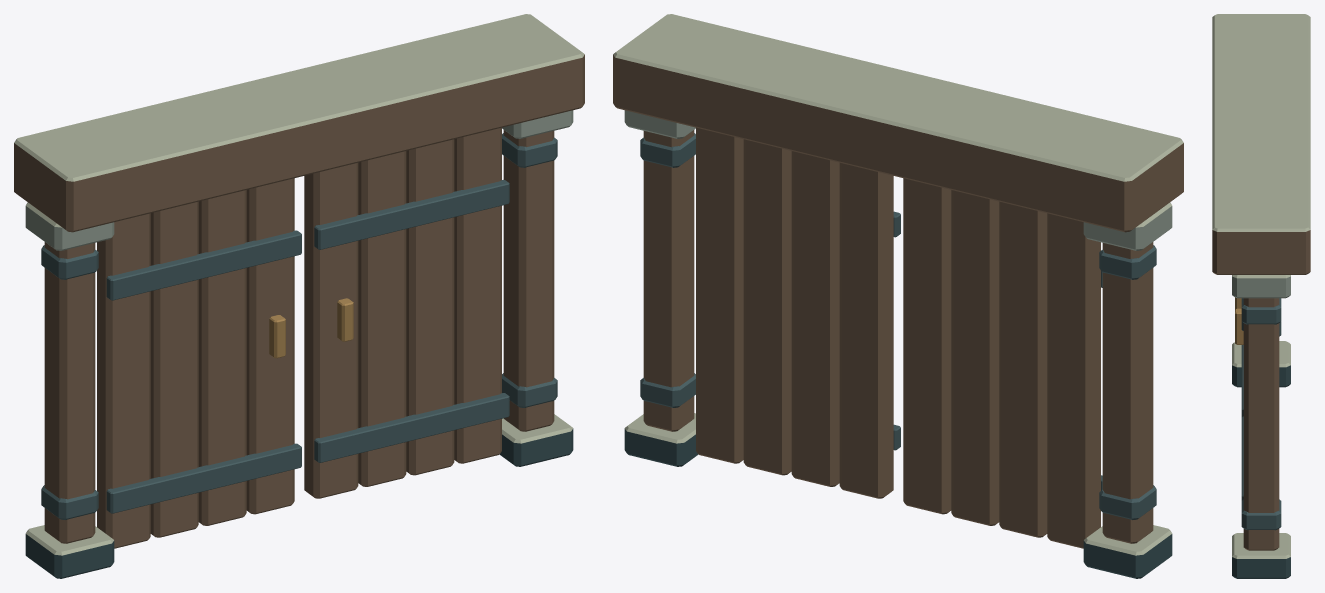
File: doorway.glb
The picture shows the model from 3 angles, left to right: view 1: azimuth 30°, elevation 25°; view 2: azimuth 150°, elevation 25°; view 3: azimuth 270°, elevation 25°; orthographic projection. The views are drawn at different scales.
Parts seen in each view (by area): view 1: doorway__body, doorway__leaf-right, doorway__leaf-left; view 2: doorway__body, doorway__leaf-right, doorway__leaf-left; view 3: doorway__body, doorway__leaf-right, doorway__leaf-left.
Boxes of the visible parts, left/top/right/bottom form: doorway__body: left=14, top=14, right=584, bottom=578; doorway__leaf-right: left=304, top=127, right=509, bottom=498; doorway__leaf-left: left=97, top=178, right=301, bottom=548; doorway__body: left=613, top=14, right=1183, bottom=578; doorway__leaf-right: left=696, top=127, right=900, bottom=498; doorway__leaf-left: left=903, top=178, right=1102, bottom=548; doorway__body: left=1212, top=14, right=1310, bottom=578; doorway__leaf-right: left=1235, top=308, right=1243, bottom=500; doorway__leaf-left: left=1235, top=297, right=1243, bottom=417.
Size of the model in its own units: 2.6 by 1.96 by 0.5.
